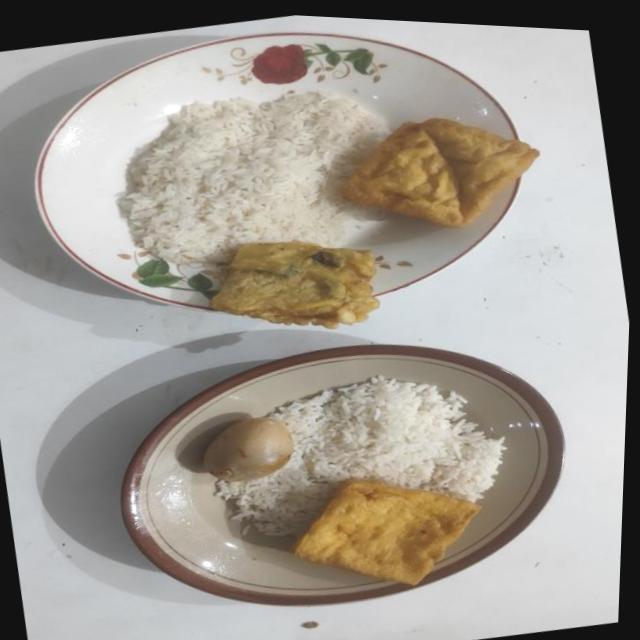nasi_putih: (216, 375, 505, 534), (118, 93, 386, 263)
tahu_goreng: (341, 118, 538, 226), (295, 478, 480, 584)
